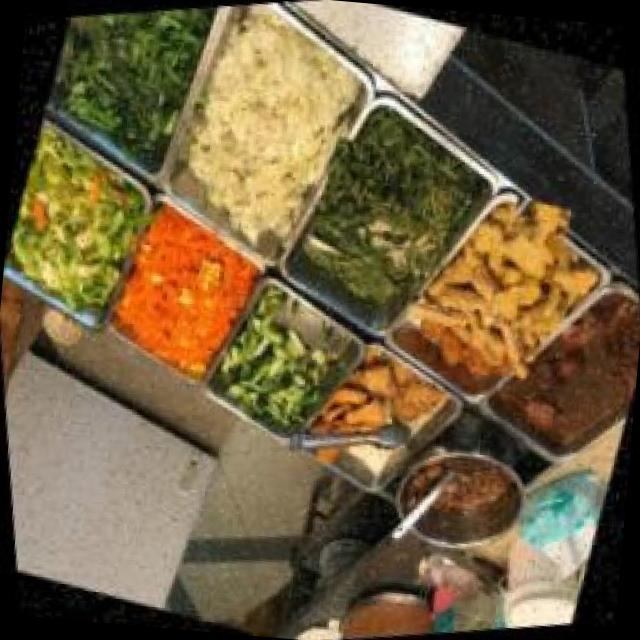carrot_eggs: (100, 203, 268, 384)
chicken_nuggets: (458, 192, 602, 338)
chinese_cabbage: (159, 0, 374, 247)
fried_chicken: (374, 366, 452, 436)
water_spinach: (290, 112, 480, 302)
